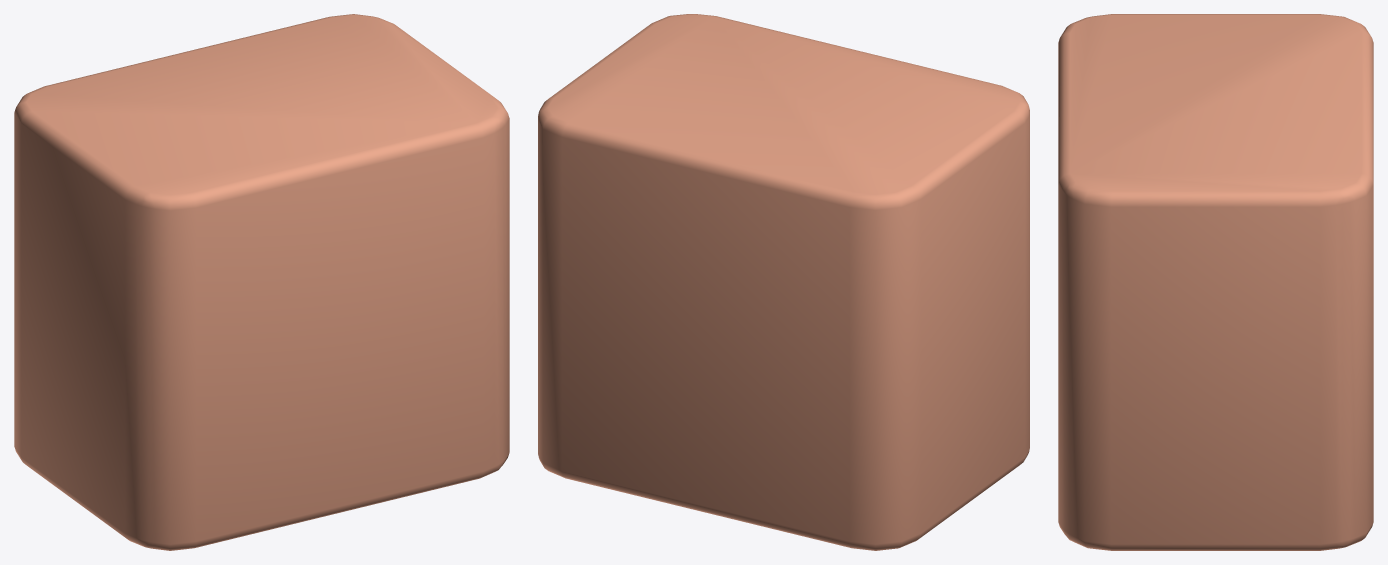
The model's file is island_lv5_1.fbx.
3 renders of one model, left to right at view 1: azimuth 30°, elevation 25°; view 2: azimuth 150°, elevation 25°; view 3: azimuth 270°, elevation 25°, orthographic.
Visible parts, largest first — view 1: island_lv5_1; view 2: island_lv5_1; view 3: island_lv5_1.
Boxes of the visible parts, x1,y1,x2,y2 form: island_lv5_1: (14, 14, 509, 550); island_lv5_1: (538, 14, 1029, 550); island_lv5_1: (1058, 14, 1373, 550).
Size of the model in its own units: 557 by 500 by 399.
